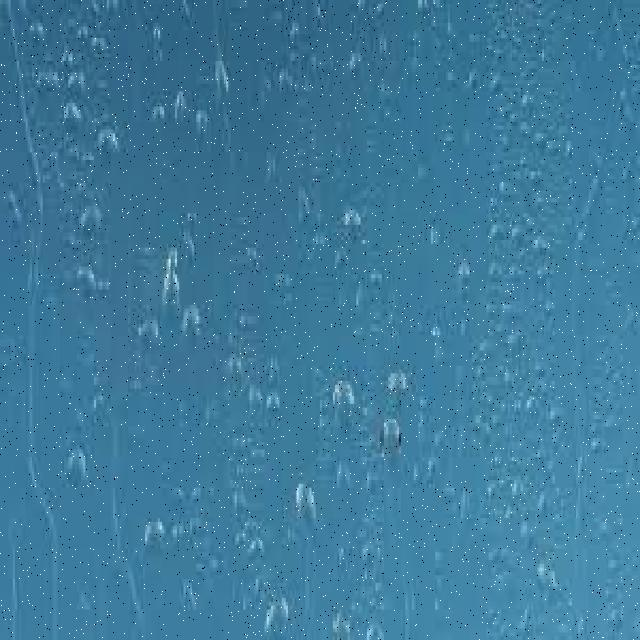raindrop: (58, 434, 90, 506), (256, 582, 295, 640), (288, 470, 324, 528), (72, 188, 105, 242), (326, 372, 356, 430), (88, 113, 124, 161), (157, 270, 189, 322), (136, 514, 168, 566), (205, 52, 237, 103), (374, 410, 404, 464), (178, 298, 205, 348), (54, 93, 88, 132), (336, 202, 364, 245), (70, 258, 96, 300)
